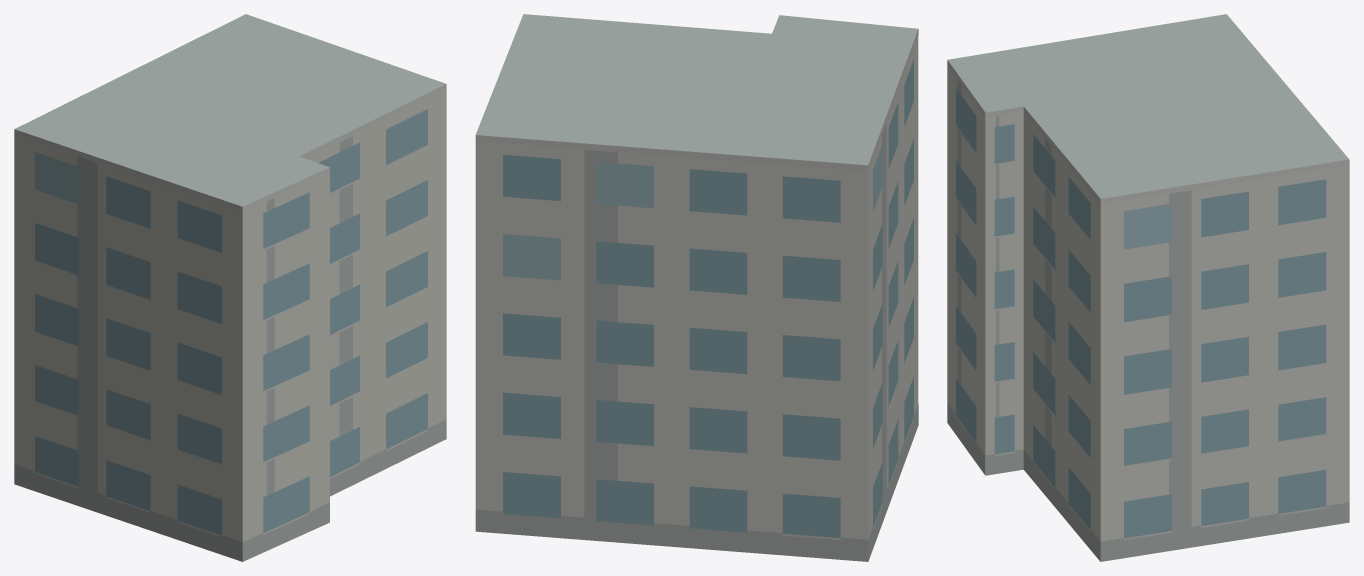
Rendered from residential-29007496-888d-4aaf-a9da-7321701cb6df.glb.
3 views of the same model, side by side, from view 1: azimuth 30°, elevation 25°; view 2: azimuth 150°, elevation 25°; view 3: azimuth 270°, elevation 25° (orthographic). The views are drawn at different scales.
Parts seen in each view (by area): view 1: residential-29007496-888d-4aaf-a9da-7321701cb6df.tmp; view 2: residential-29007496-888d-4aaf-a9da-7321701cb6df.tmp; view 3: residential-29007496-888d-4aaf-a9da-7321701cb6df.tmp.
Boxes of the visible parts, box(x1,y1,x2,y2) form: residential-29007496-888d-4aaf-a9da-7321701cb6df.tmp: box(14, 14, 446, 561); residential-29007496-888d-4aaf-a9da-7321701cb6df.tmp: box(475, 14, 918, 561); residential-29007496-888d-4aaf-a9da-7321701cb6df.tmp: box(947, 14, 1349, 561).
Size of the model in its own units: 16.66 by 15.25 by 15.32.
